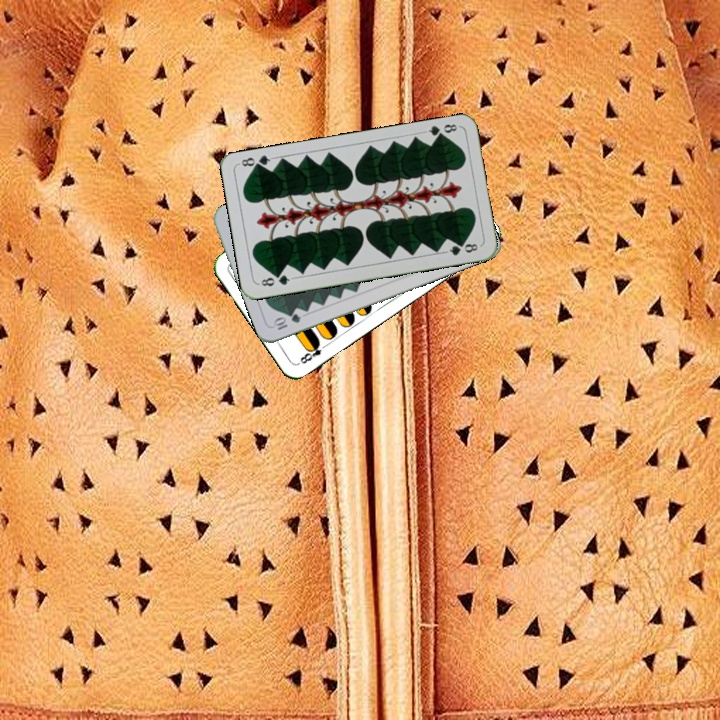E8: (296, 338, 331, 367)
G10: (269, 310, 303, 333)
G8: (421, 120, 459, 142), (255, 270, 295, 289)
